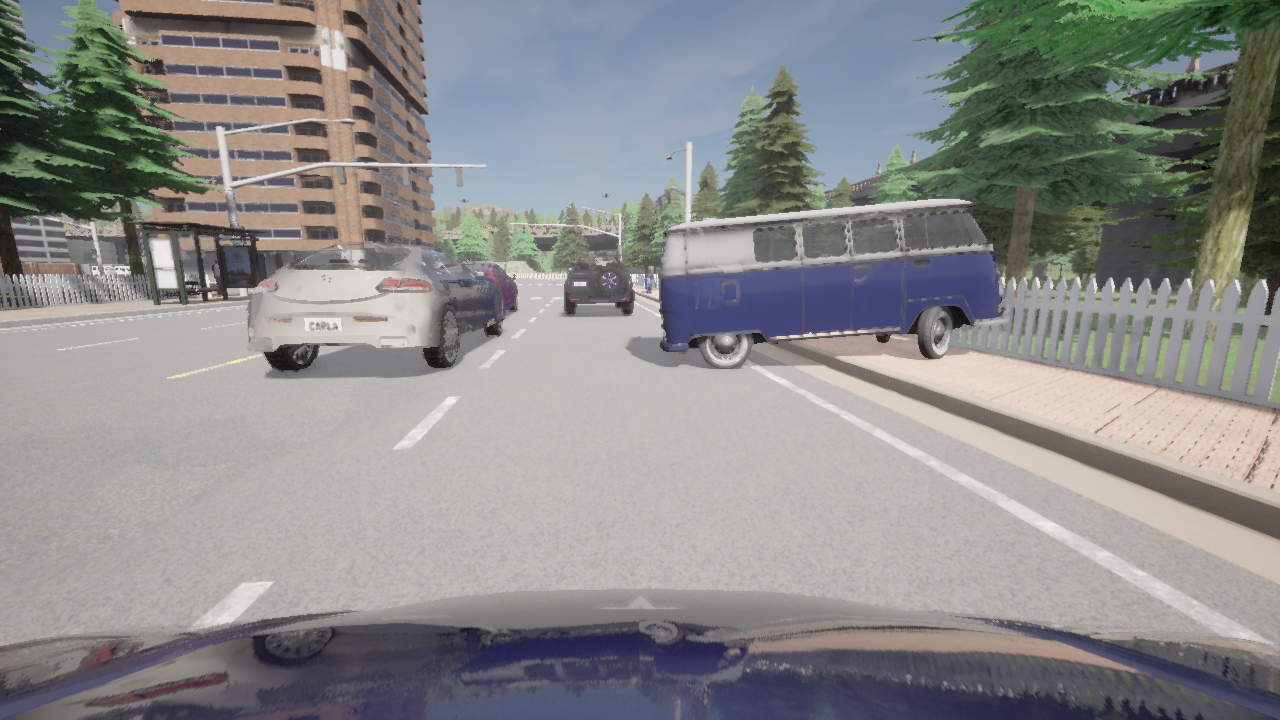cyclist: (0, 588, 1279, 719), (659, 198, 1008, 370), (246, 242, 502, 371), (565, 252, 633, 315), (460, 261, 516, 318), (77, 264, 115, 277), (103, 264, 130, 275)
pedestrian: (211, 259, 221, 295), (645, 270, 652, 292)
